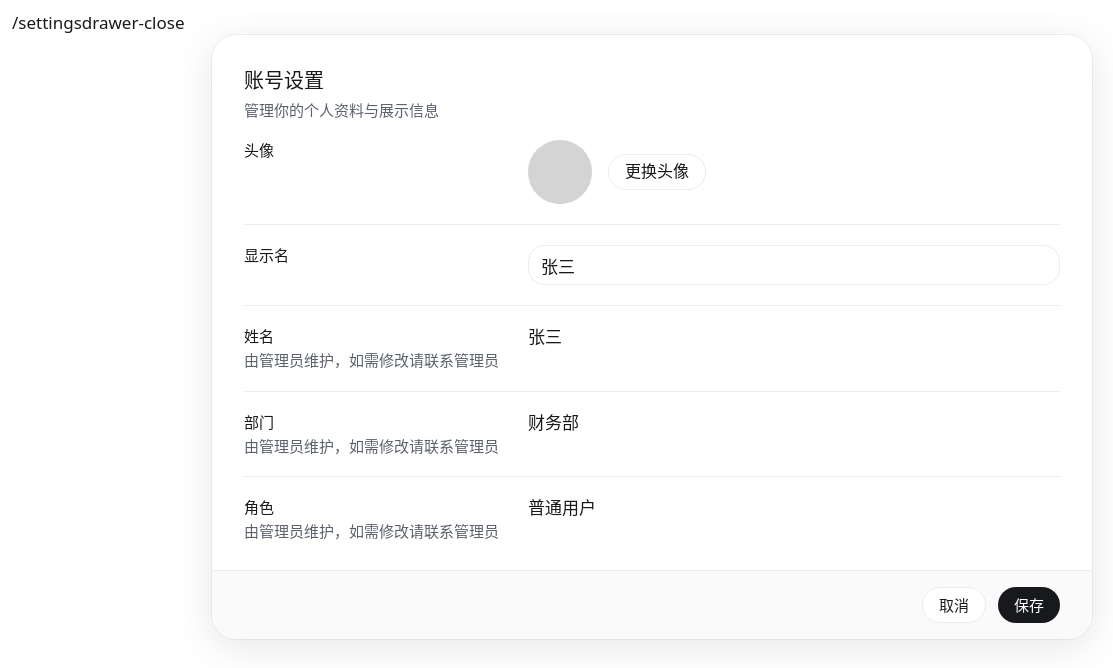
Test: ProfileModule 草稿-保存语义 › 「取消」丢弃草稿，不产生提交请求
The image size is (1113, 668).
Step 1. Replace the text in the field labelled "显示名" with "新名字" → (794, 265), box [528,245,1060,285]
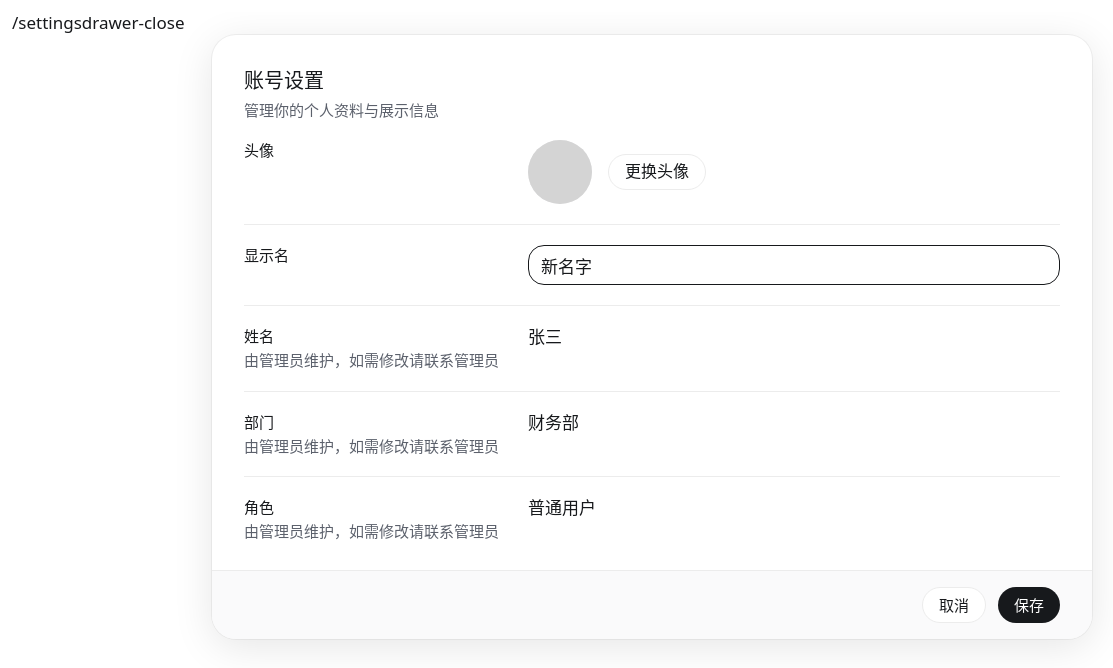
Step 2. Click the button "取消" → (954, 605), box [922,587,986,623]
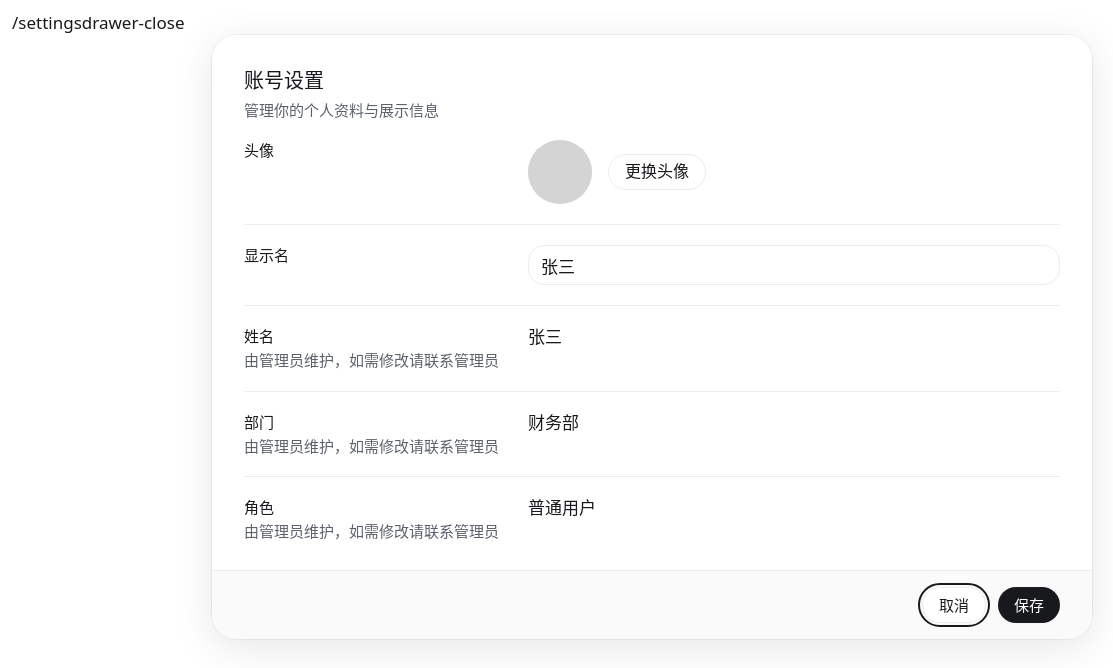
Result: the field labelled "显示名" holds "张三" at [528,245,1060,285]
